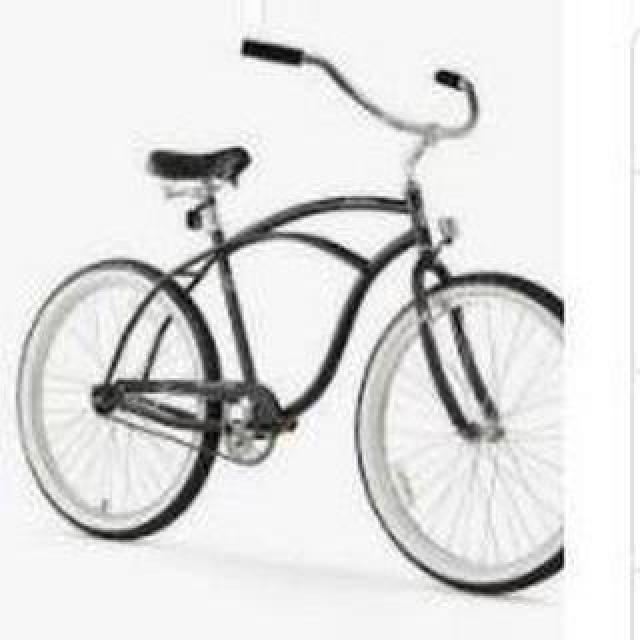Person: (16, 39, 584, 595)
